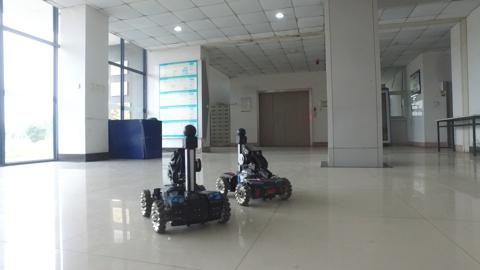chariot: (138, 120, 234, 238), (215, 121, 296, 209)
